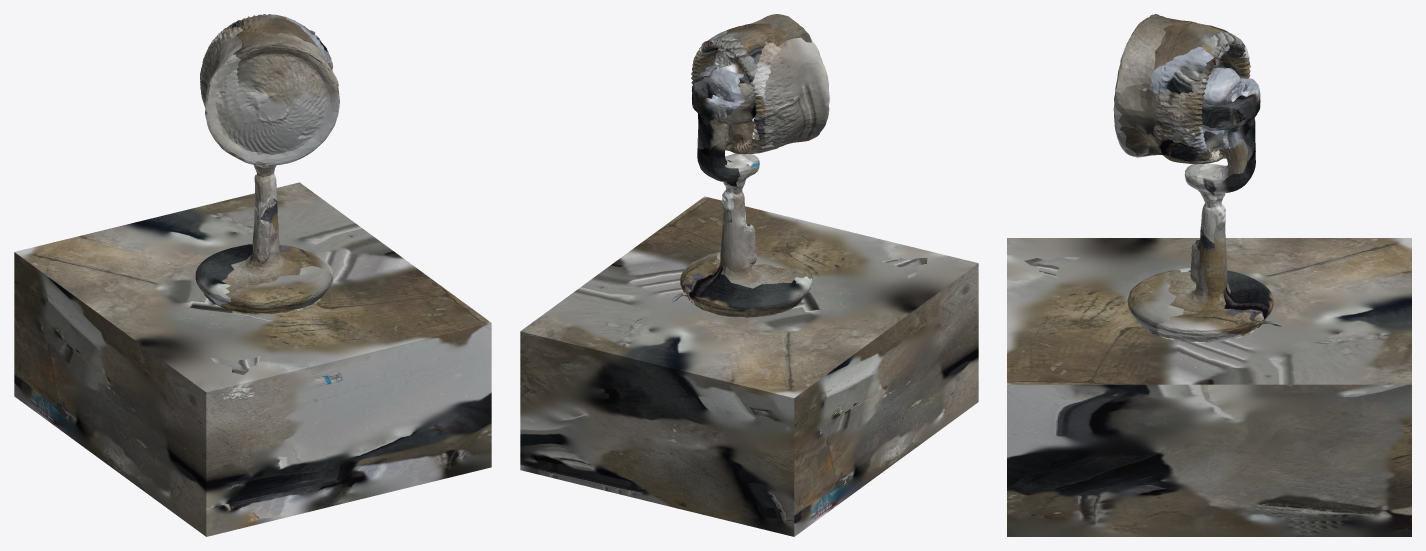
The model's file is FAN.fbx.
The picture shows the model from 3 angles, left to right: view 1: azimuth 30°, elevation 25°; view 2: azimuth 150°, elevation 25°; view 3: azimuth 270°, elevation 25°; orthographic projection. The views are drawn at different scales.
Parts seen in each view (by area): view 1: polySurface222; view 2: polySurface222; view 3: polySurface222.
Part boxes in pixels (x1,y1,x2,y2): polySurface222: (14,14,491,536); polySurface222: (520,14,978,536); polySurface222: (1007,14,1411,536).
Size of the model in its own units: 0.7114 by 0.9884 by 0.8295.
